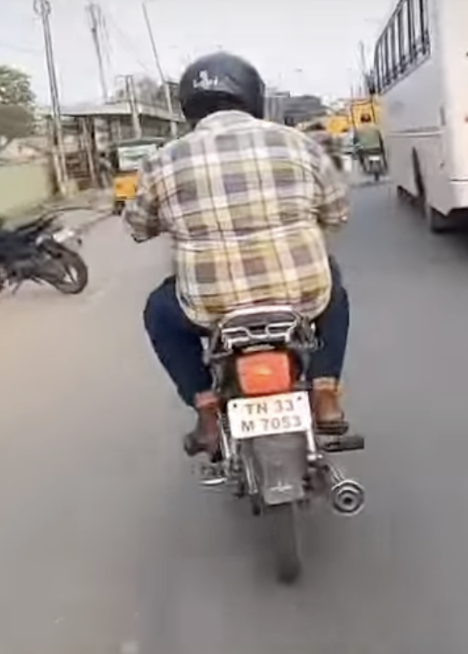motor: (128, 214, 369, 582)
number: (226, 395, 312, 435)
with helmet: (179, 54, 267, 123)
